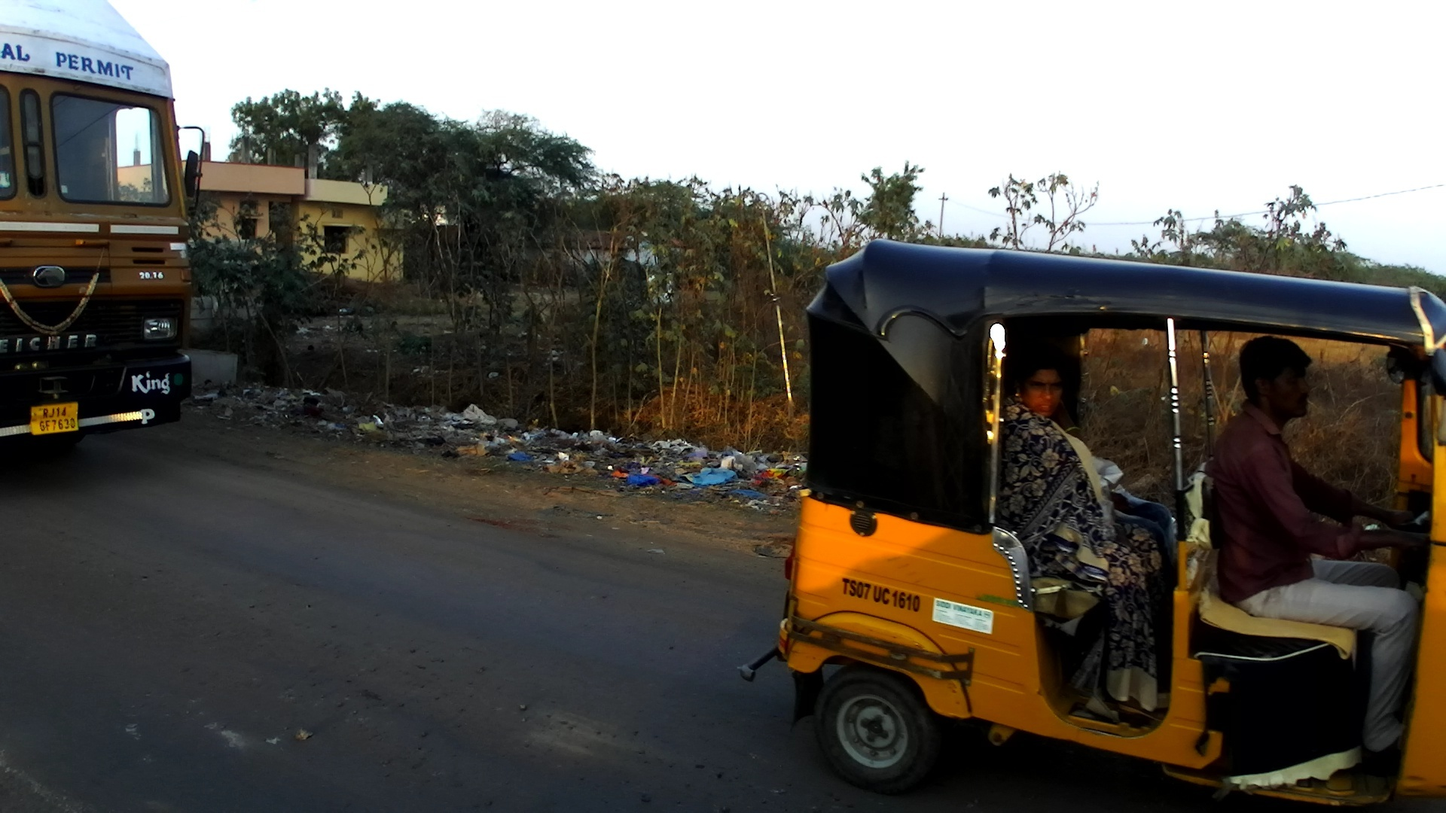autorickshaw: (737, 232, 1446, 813)
truck: (1, 1, 210, 461)
